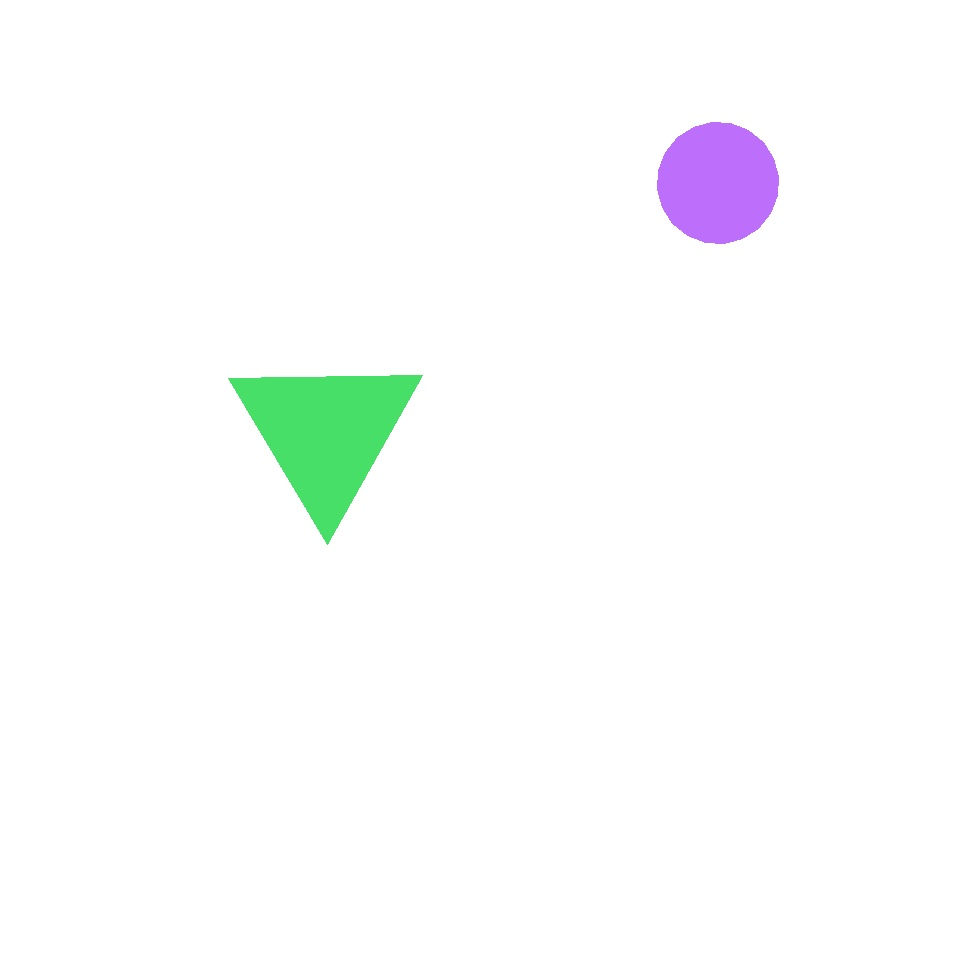circle: (229, 348, 423, 518), (76, 506, 228, 640)
square: (155, 200, 486, 532)
triangle: (97, 320, 462, 684), (674, 650, 892, 869), (658, 122, 778, 244)
